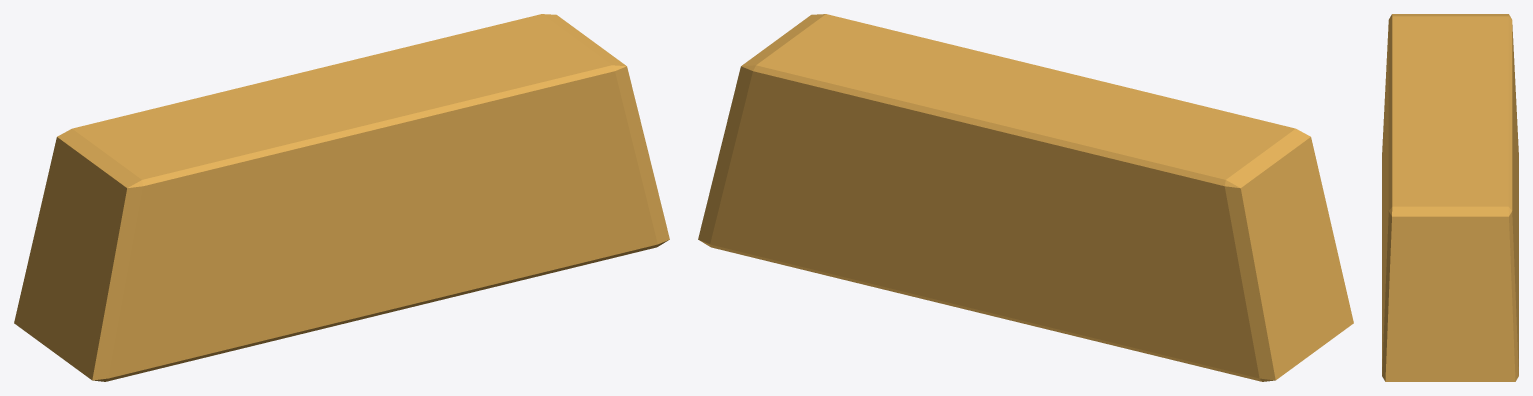
The model's file is Gold.fbx.
3 renders of one model, left to right at view 1: azimuth 30°, elevation 25°; view 2: azimuth 150°, elevation 25°; view 3: azimuth 270°, elevation 25°, orthographic. The views are drawn at different scales.
Visible parts, largest first — view 1: Cube.084; view 2: Cube.084; view 3: Cube.084.
Part boxes in pixels (bbox=[...]): Cube.084: bbox=[14, 14, 669, 381]; Cube.084: bbox=[698, 14, 1353, 381]; Cube.084: bbox=[1382, 14, 1518, 381].
Size of the model in its own units: 29.9 by 9.35 by 7.38.
